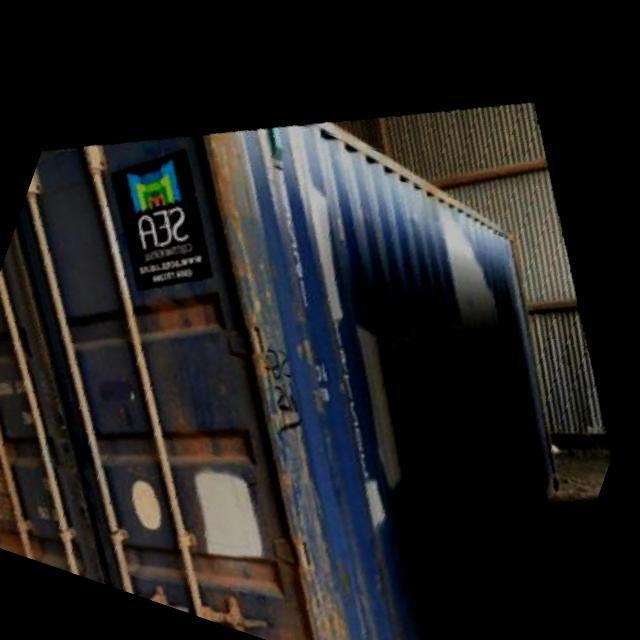rust: (267, 537, 382, 637), (238, 333, 330, 441), (149, 271, 231, 356)
